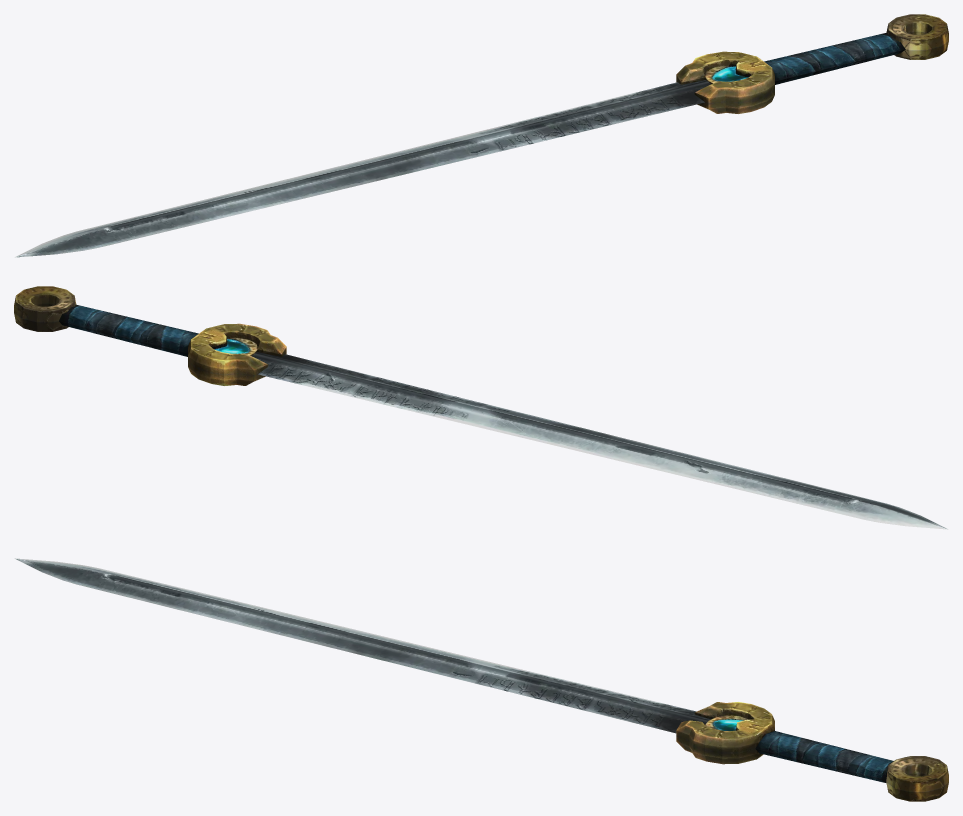
Rendered from KM_ITMW_KEDART_1H_SWORD_01.glb.
3 renders of one model, top to bottom at view 1: azimuth 30°, elevation 25°; view 2: azimuth 150°, elevation 25°; view 3: azimuth 330°, elevation 25°, orthographic.
Visible parts, largest first — view 1: KM_ITMW_KEDART_1H_SWORD_01; view 2: KM_ITMW_KEDART_1H_SWORD_01; view 3: KM_ITMW_KEDART_1H_SWORD_01.
Boxes of the visible parts, <box> form: KM_ITMW_KEDART_1H_SWORD_01: <box>14,14,948,257</box>; KM_ITMW_KEDART_1H_SWORD_01: <box>14,286,948,529</box>; KM_ITMW_KEDART_1H_SWORD_01: <box>14,558,948,801</box>.
Bounding box in the file's own units: 1.11 × 0.0285 × 0.0983.
2 materials, 2 textured.
